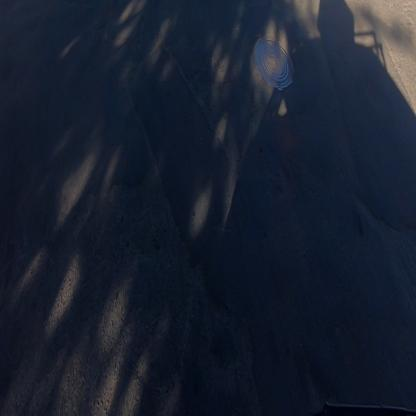manholes: (252, 26, 298, 110)
